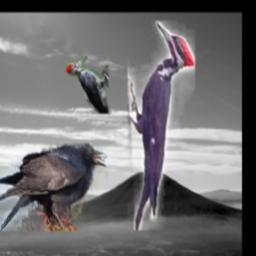Crow: (0, 145, 109, 232)
Woodpecker: (128, 22, 195, 231), (67, 56, 110, 114)
